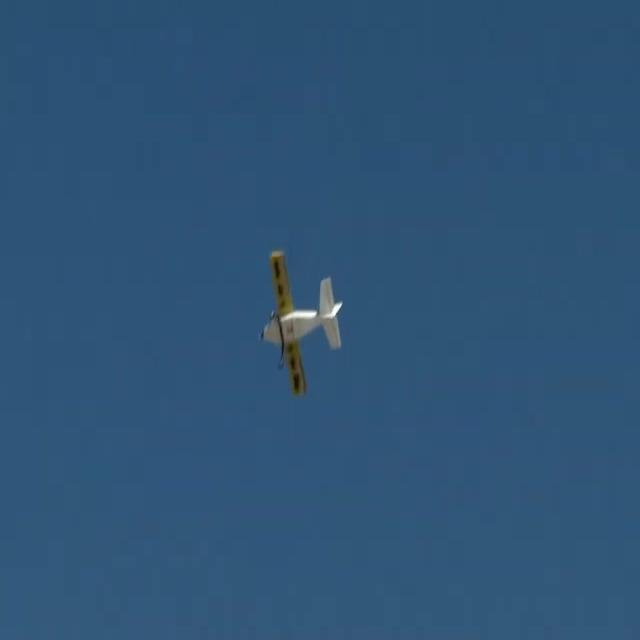iha: (291, 249, 310, 399)
